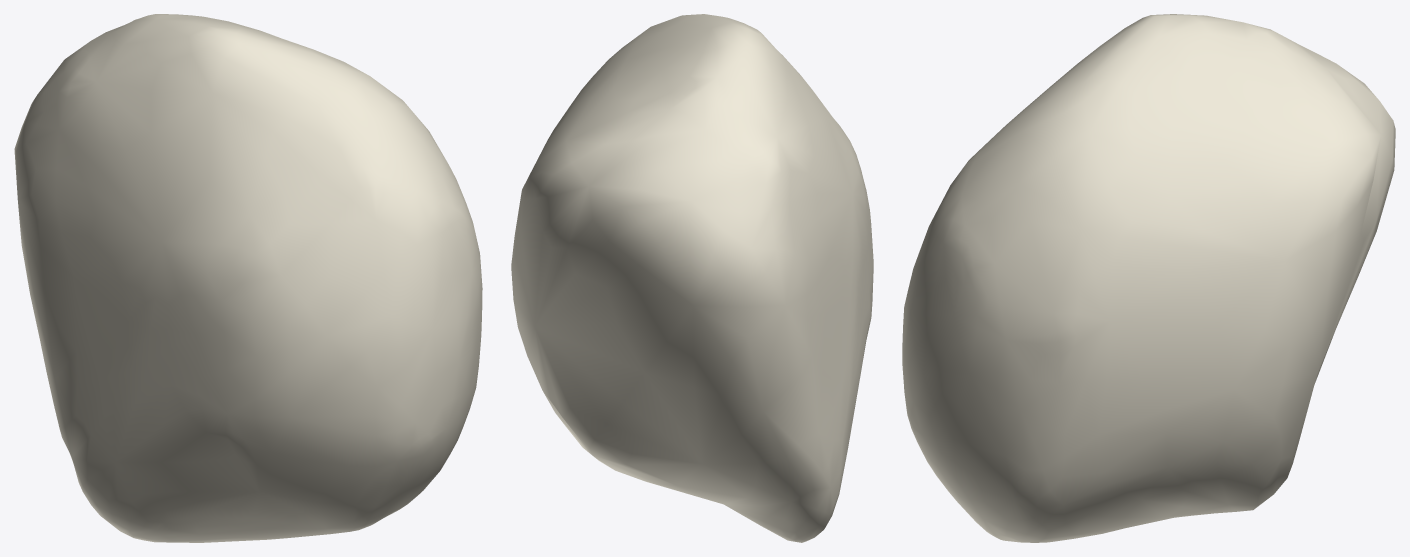
3 views of the same model, side by side, from view 1: azimuth 30°, elevation 25°; view 2: azimuth 150°, elevation 25°; view 3: azimuth 270°, elevation 25° (orthographic). The views are drawn at different scales.
Visible parts, largest first — view 1: ZA_2919eed4eb0590be; view 2: ZA_2919eed4eb0590be; view 3: ZA_2919eed4eb0590be.
Part boxes in pixels (x1,y1,x2,y2): ZA_2919eed4eb0590be: [14, 14, 482, 542]; ZA_2919eed4eb0590be: [511, 14, 873, 542]; ZA_2919eed4eb0590be: [902, 14, 1395, 542].
Size of the model in its own units: 0.00846 by 0.0121 by 0.0104.
